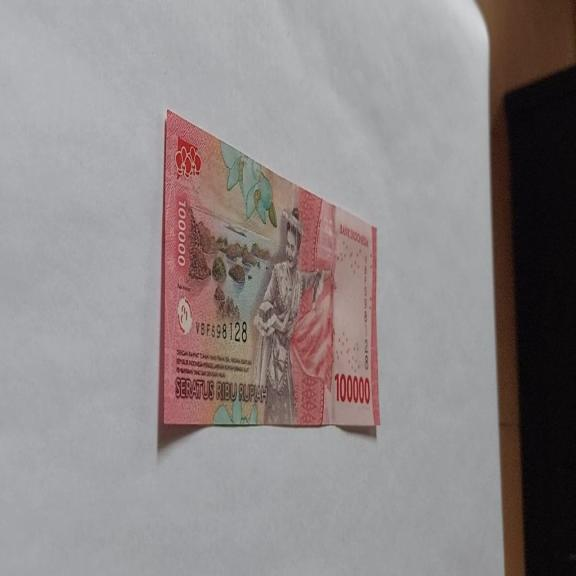Kertas: (158, 107, 380, 438)
